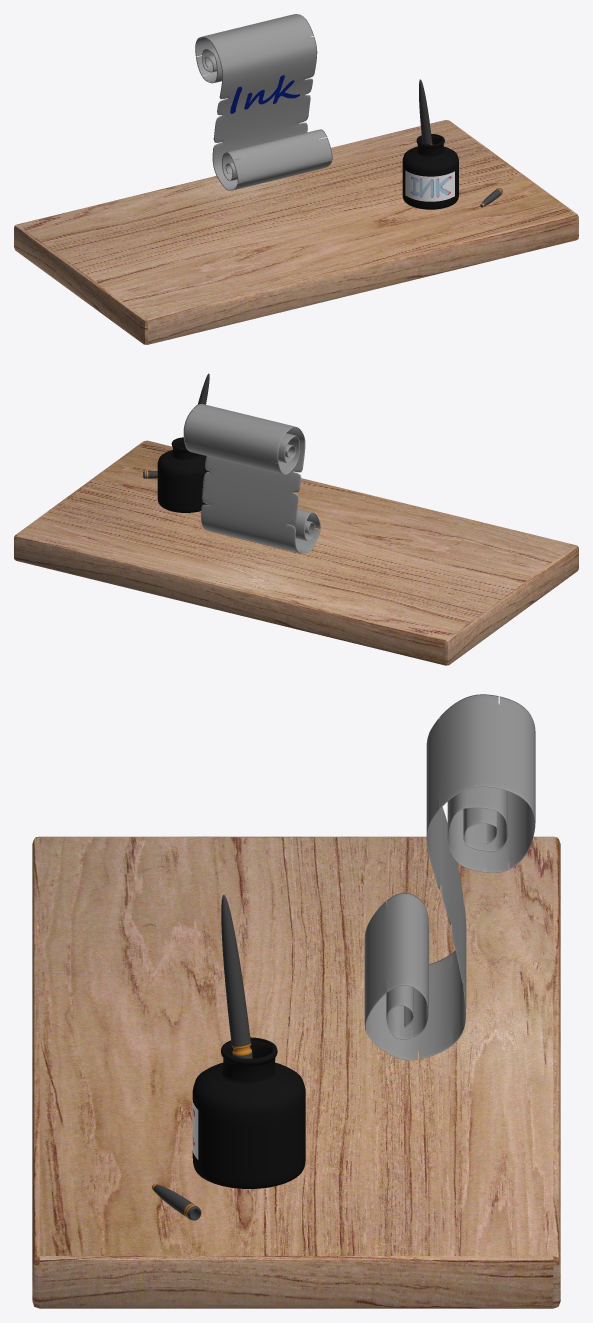
Rendered from Ink.FBX.
3 views of the same model, one above another, from view 1: azimuth 30°, elevation 25°; view 2: azimuth 150°, elevation 25°; view 3: azimuth 270°, elevation 25° (orthographic). The views are drawn at different scales.
Visible parts, largest first — view 1: Box001, Line001, Cylinder001, Object002, Text001, ïàðêåð001; view 2: Box001, Line001, Cylinder001; view 3: Box001, Line001, Cylinder001, ïàðêåð001.
Part boxes in pixels (<box>): Box001: <box>14,120,578,344</box>; Line001: <box>195,14,332,190</box>; Cylinder001: <box>402,134,458,209</box>; Object002: <box>405,170,454,201</box>; Text001: <box>230,75,299,113</box>; ïàðêåð001: <box>419,79,431,144</box>; Box001: <box>14,440,578,665</box>; Line001: <box>183,404,320,553</box>; Cylinder001: <box>157,437,210,512</box>; Box001: <box>32,836,560,1308</box>; Line001: <box>364,694,535,1060</box>; Cylinder001: <box>192,1037,305,1188</box>; ïàðêåð001: <box>221,894,250,1046</box>.
Bounding box in the file's own units: 137 × 54.7 × 71.93.
Materials: 9 (2 with a texture image).
